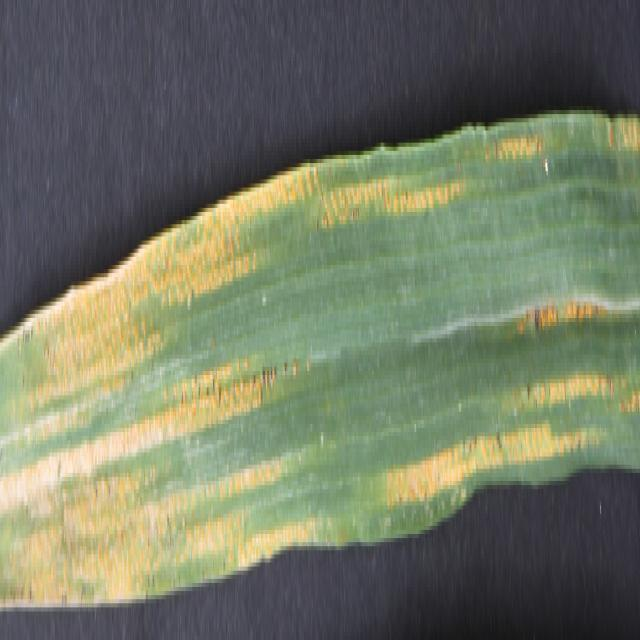leaf rust: (0, 167, 342, 608), (372, 130, 638, 506)
